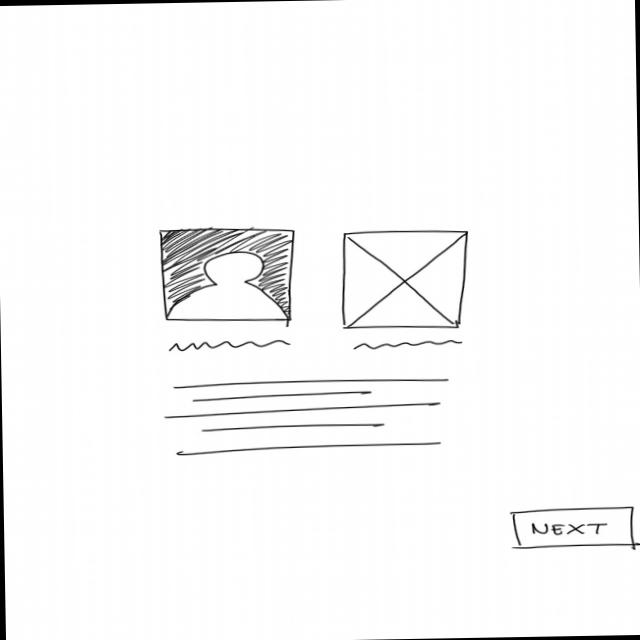button: (509, 502, 636, 552)
image: (154, 222, 297, 324), (339, 227, 471, 331)
text: (166, 337, 293, 354), (352, 338, 464, 350)
textbox: (161, 374, 453, 458)
